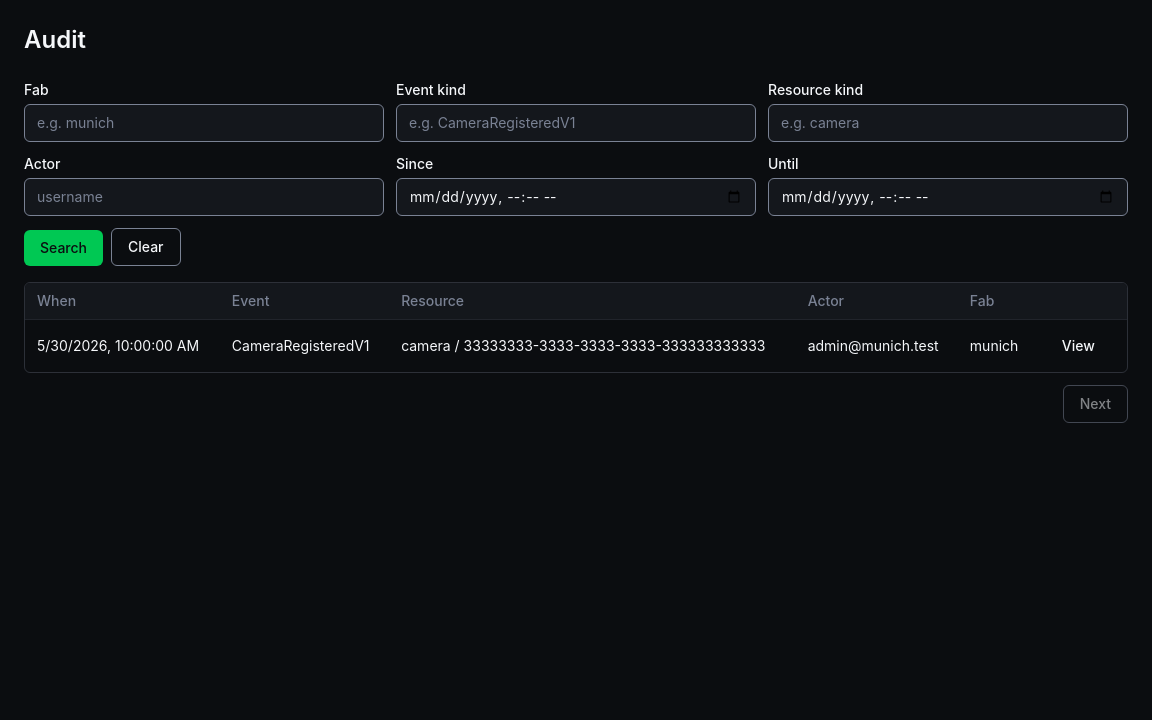
Scenario: AuditPage › Expands a row to show its JSON payload
The image size is (1152, 720).
Click the button "View" at coordinates (1078, 346), box [1046,328,1111,364]
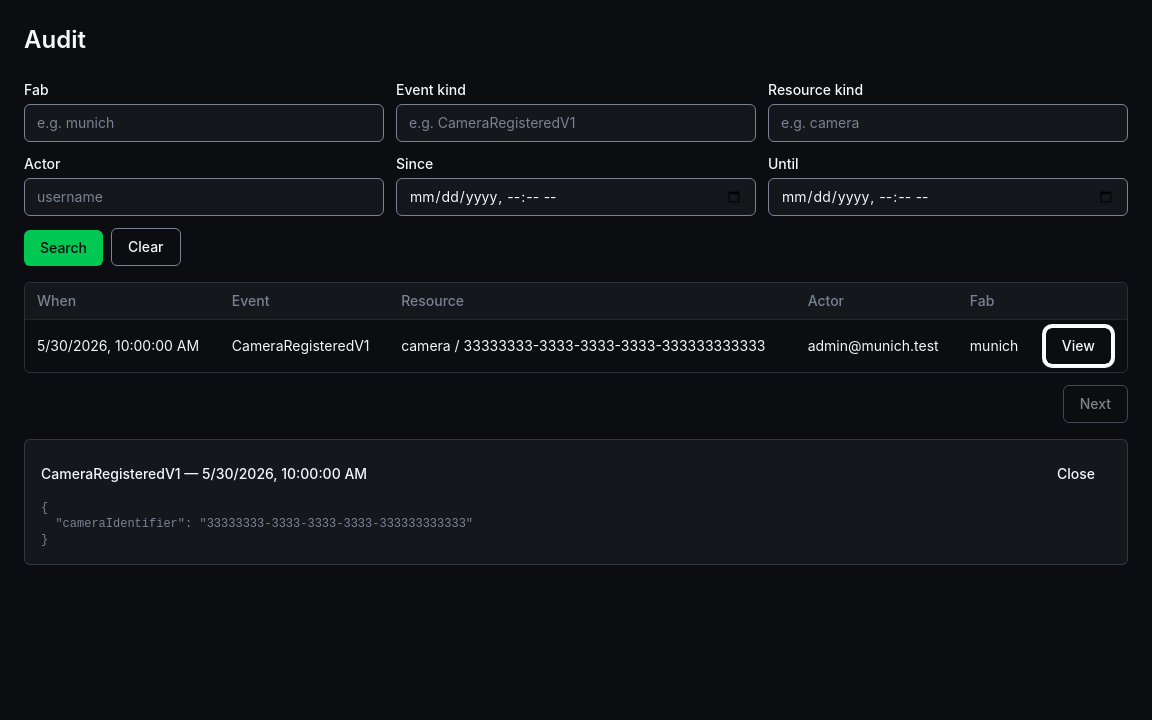
expect the text "\"cameraIdentifier\": \"33333333-3333-3333-3333-333333333333\"" is shown: met, box [41,501,473,547]
